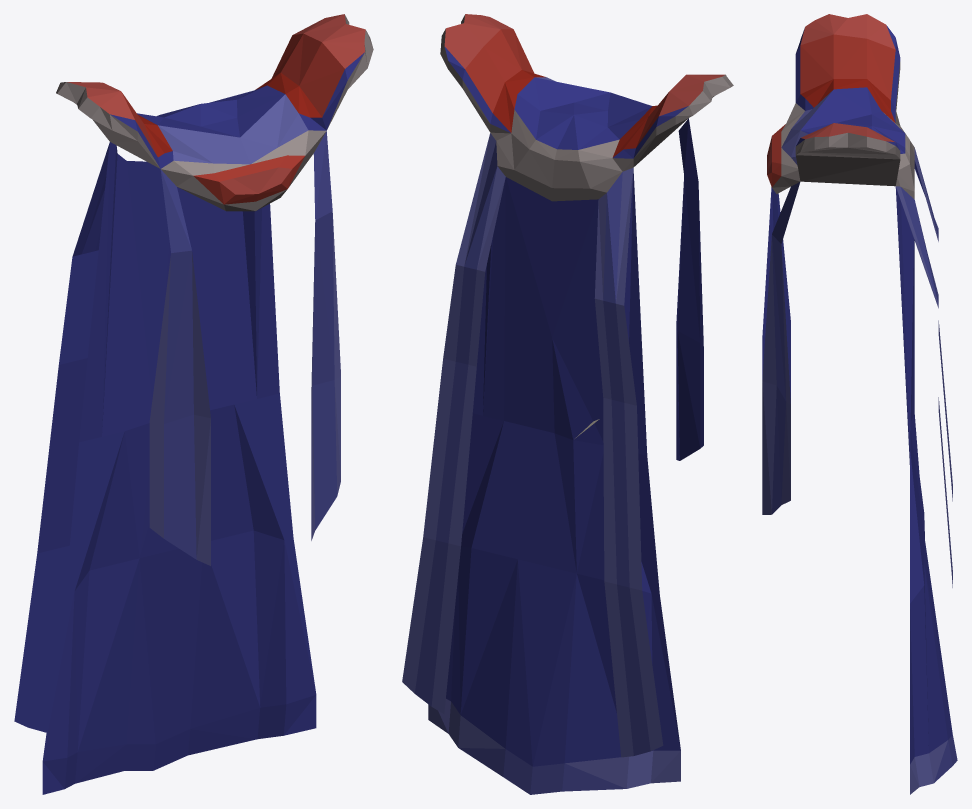
The model's file is agility.gltf.
3 views of the same model, side by side, from view 1: azimuth 30°, elevation 25°; view 2: azimuth 150°, elevation 25°; view 3: azimuth 270°, elevation 25° (orthographic). The views are drawn at different scales.
Size of the model in its own units: 64 by 159 by 41.
1 material, 1 textured.
